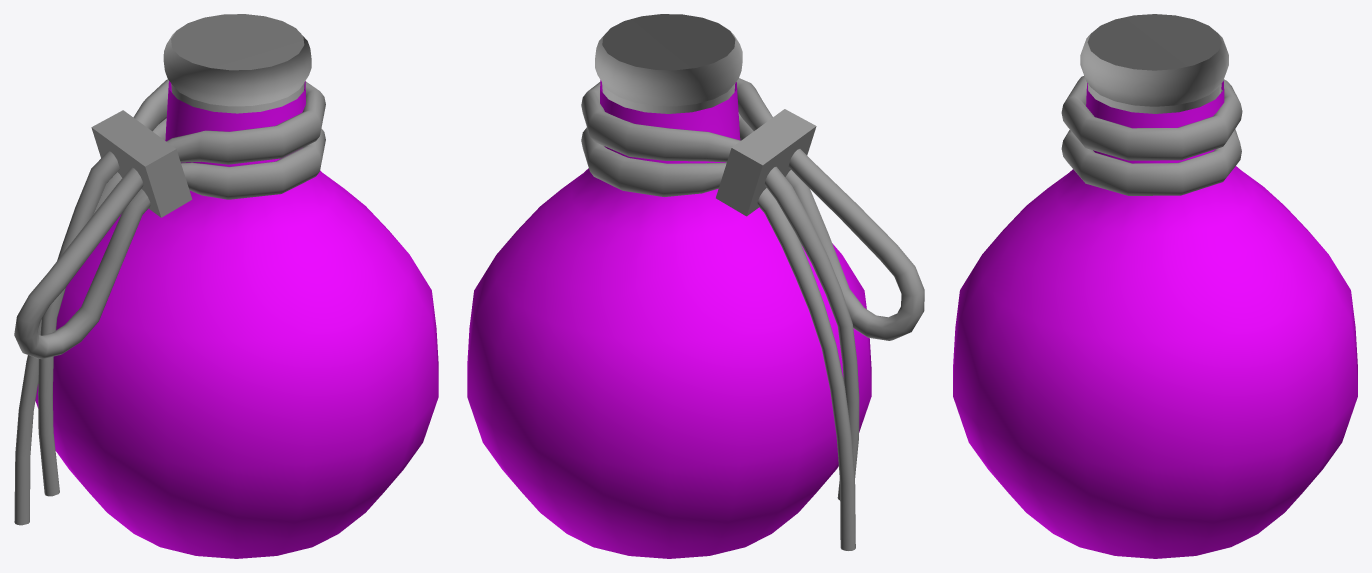
File: potion.FBX
The picture shows the model from 3 angles, left to right: view 1: azimuth 30°, elevation 25°; view 2: azimuth 150°, elevation 25°; view 3: azimuth 270°, elevation 25°; orthographic projection.
Parts seen in each view (by area): view 1: Object004; view 2: Object004; view 3: Object004.
Part boxes in pixels (x1,y1,x2,y2): Object004: [14, 14, 438, 558]; Object004: [467, 14, 924, 558]; Object004: [953, 14, 1357, 558].
Size of the model in its own units: 17.79 by 19.12 by 15.02.
